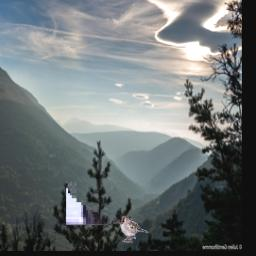Crow: (66, 22, 136, 226)
Sparrow: (120, 215, 148, 243)
